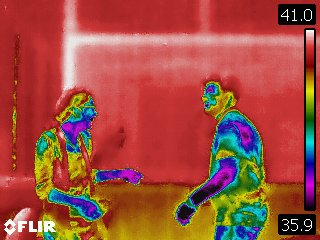human: (33, 85, 148, 240), (173, 72, 270, 239)
